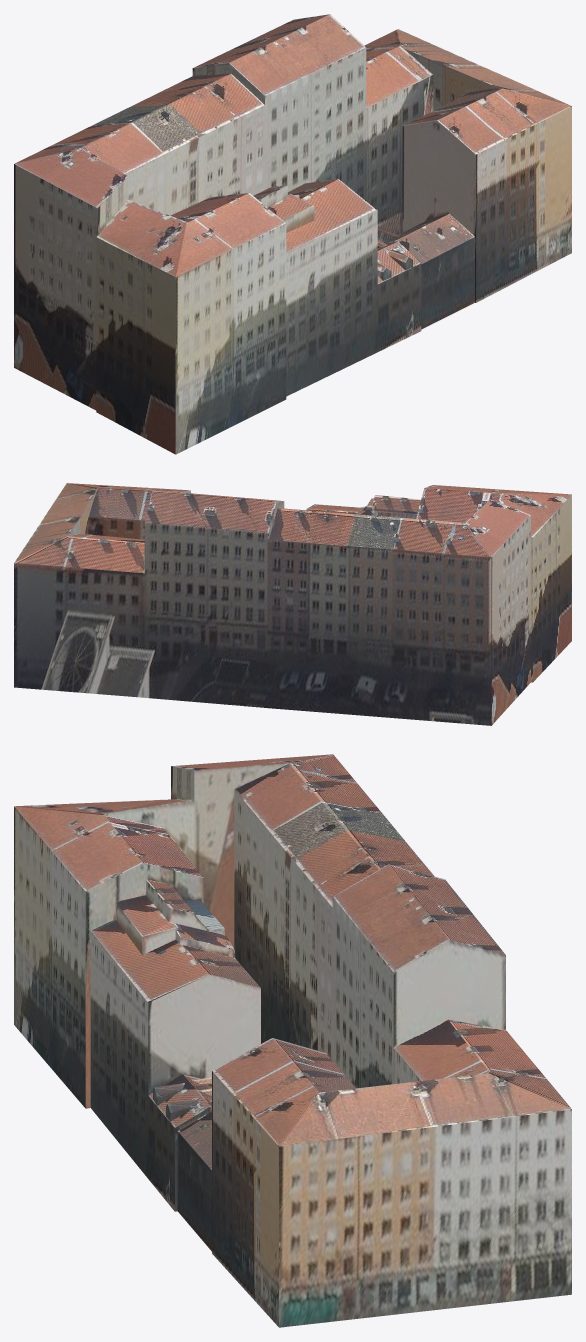
Rendered from LYON_1ER_00054.dae.
3 renders of one model, top to bottom at view 1: azimuth 30°, elevation 25°; view 2: azimuth 150°, elevation 25°; view 3: azimuth 270°, elevation 25°, orthographic. The views are drawn at different scales.
Size of the model in its own units: 94.19 by 68.92 by 38.69.
Materials: 2 (2 with a texture image).
